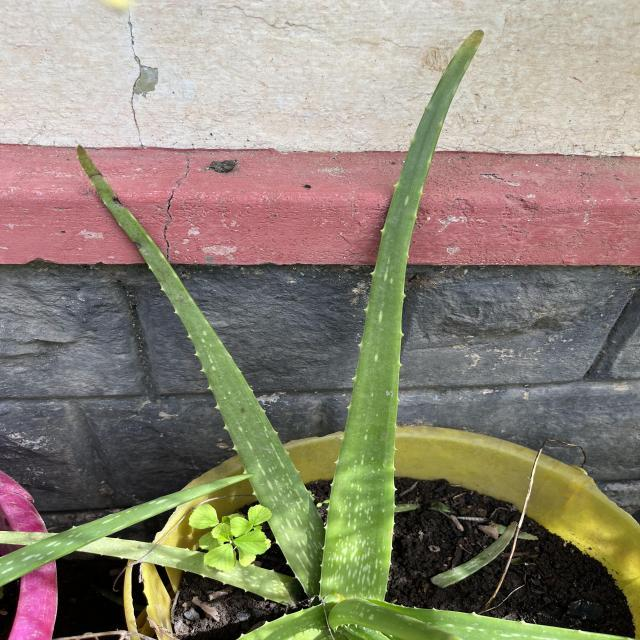Aloe vera: (316, 28, 494, 614)
